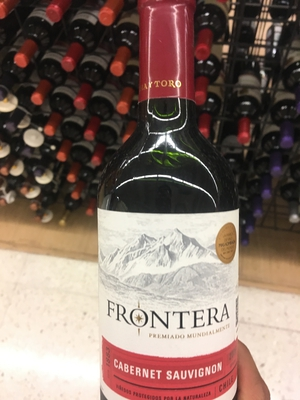frontera cabernet sauvignon: (90, 9, 245, 400)
